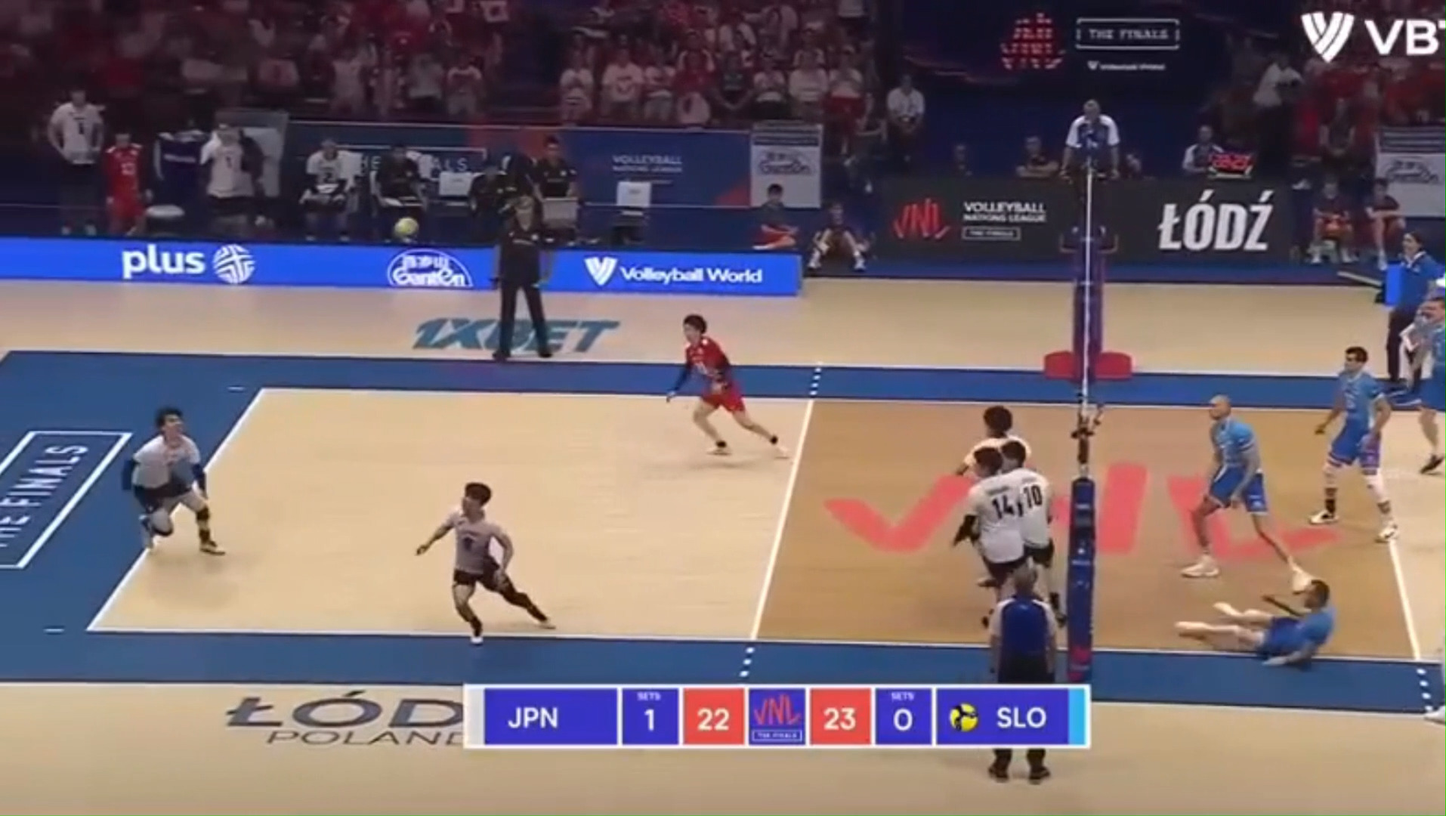ball: (394, 217, 418, 238)
player: (1180, 394, 1312, 588), (1309, 346, 1398, 542), (1176, 580, 1335, 665), (1415, 298, 1445, 458)
player 1: (417, 482, 554, 644), (668, 314, 783, 454), (122, 408, 223, 555), (955, 449, 1024, 583), (1001, 441, 1054, 586), (955, 405, 1018, 475)
referee: (1382, 231, 1442, 401), (493, 190, 552, 361), (1060, 100, 1120, 255), (990, 564, 1057, 683)
